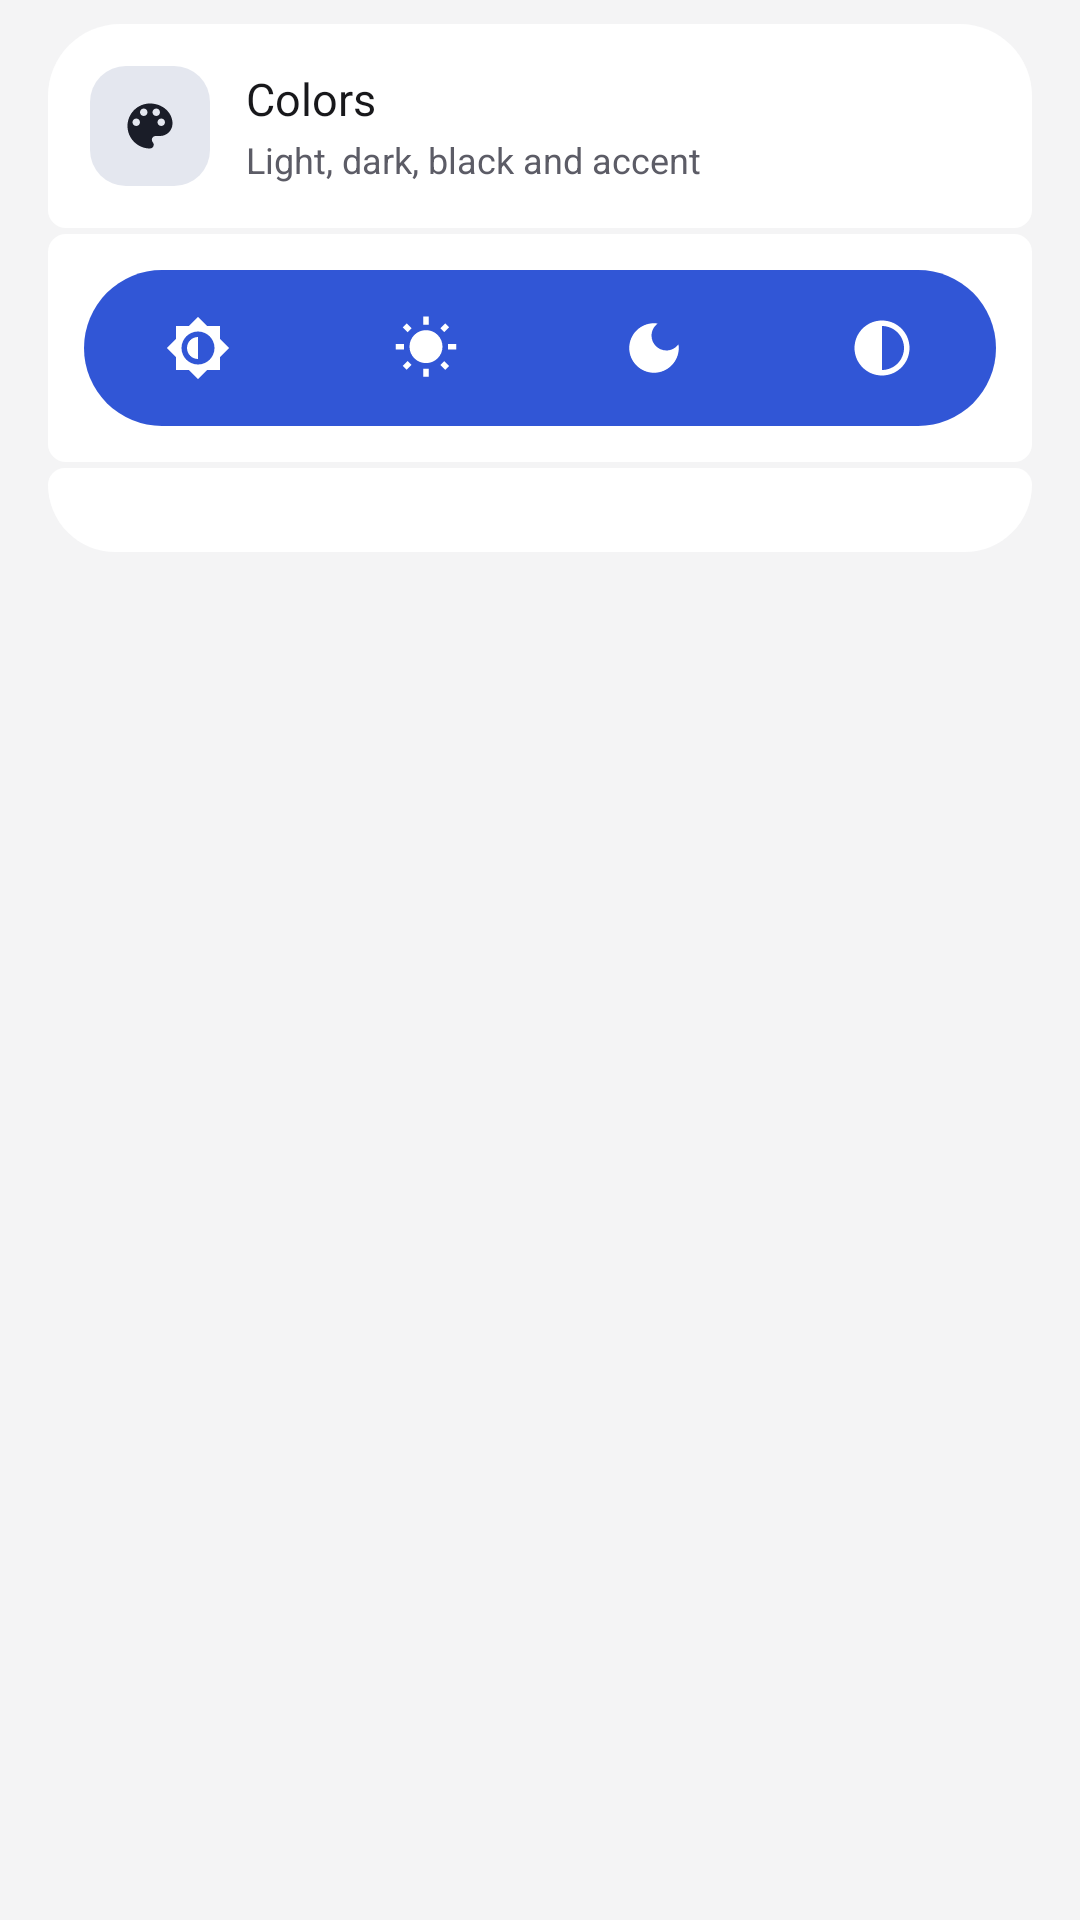

Icon bounding boxes for this 1080 x 1920 phone screenshot, format (x1, y1, x2, y2):
palette: (127, 103, 173, 149)
